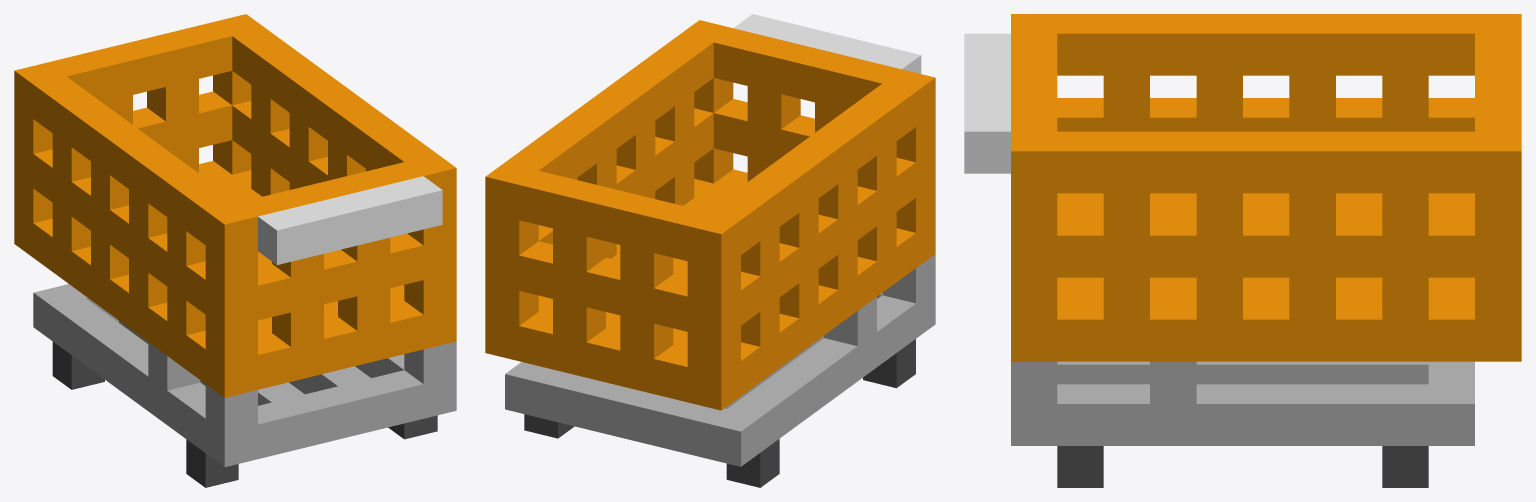
The model's file is obj_cart2a.fbx.
The picture shows the model from 3 angles, left to right: view 1: azimuth 30°, elevation 25°; view 2: azimuth 150°, elevation 25°; view 3: azimuth 270°, elevation 25°; orthographic projection. The views are drawn at different scales.
Parts seen in each view (by area): view 1: obj_cart2a; view 2: obj_cart2a; view 3: obj_cart2a.
Part boxes in pixels (box(x1,y1,x2,y2)): obj_cart2a: box(14, 14, 456, 487); obj_cart2a: box(485, 14, 935, 487); obj_cart2a: box(964, 14, 1521, 487).
Size of the model in its own units: 0.7 by 1.2 by 0.8.
Materials: 1 (1 with a texture image).
